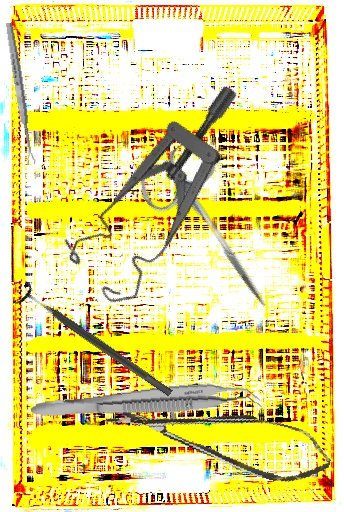Fixation Ring: (11, 280, 179, 406)
Iris Scissors: (130, 132, 302, 328)
Micro Scissor: (101, 379, 337, 494)
Speculum: (33, 80, 301, 318)
Surgical Spoon: (3, 22, 37, 165)
Tissue Forceps: (30, 377, 262, 431)
